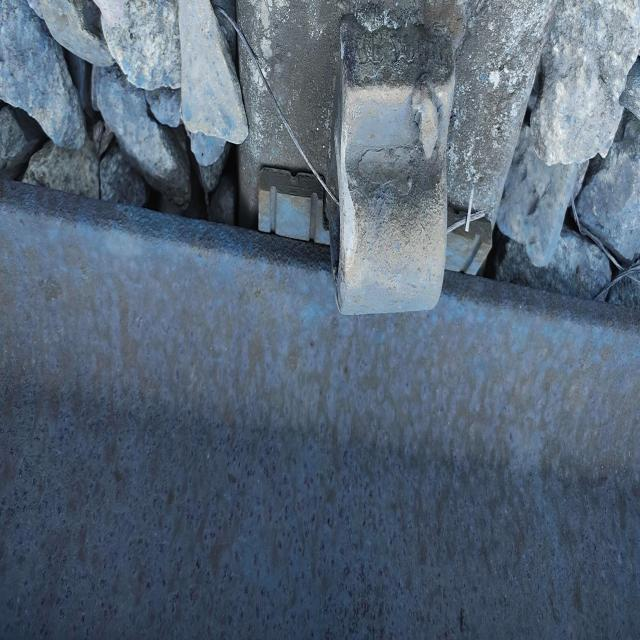Missing Fastener: (314, 13, 473, 376)
